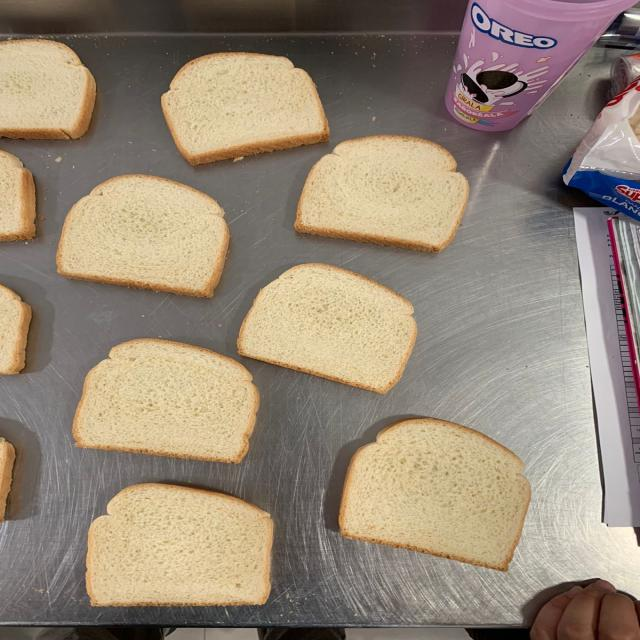pan: (337, 417, 532, 572), (236, 263, 417, 395), (72, 338, 260, 465), (86, 484, 273, 607), (55, 174, 231, 299), (294, 135, 470, 254), (161, 53, 330, 166)
